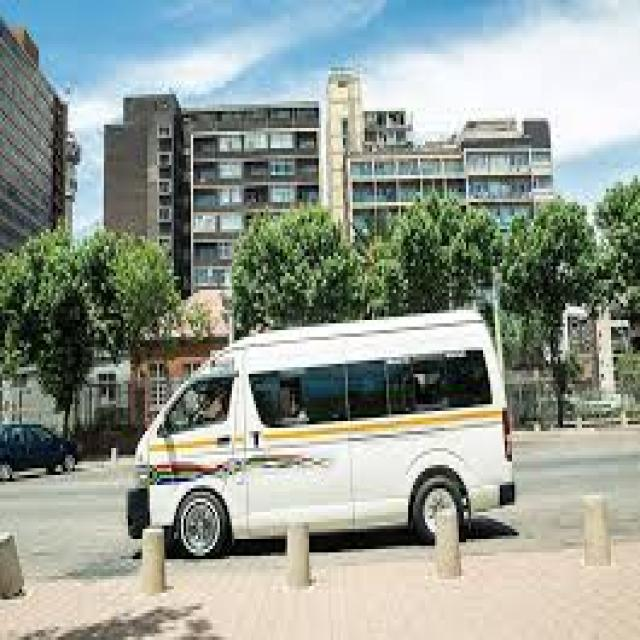MiniBus taxi: (123, 300, 522, 562)
